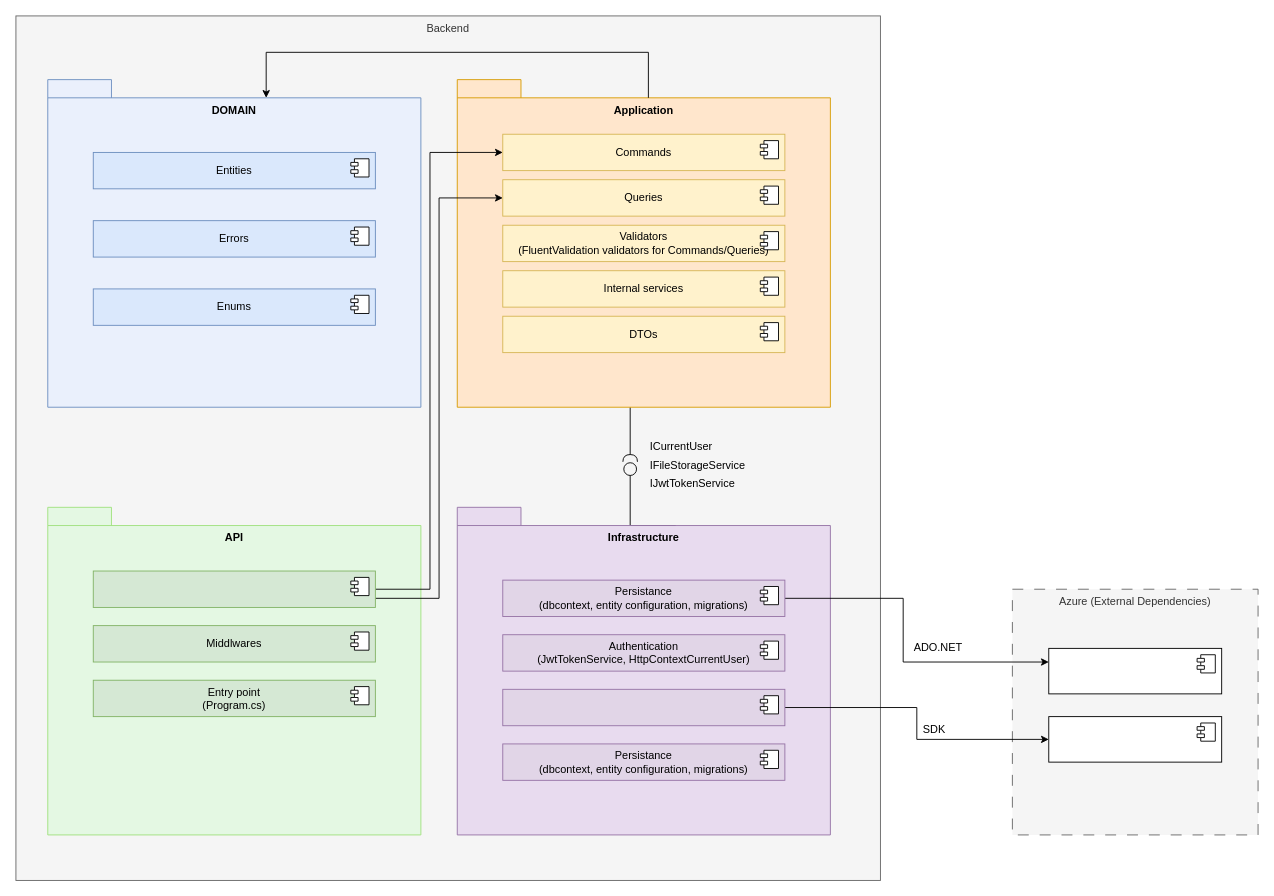
Some shapes in this 1274 by 896 pixel diagram are drawn without their labels. Each missing label, with the centre of its shape:
BLOB Storage: point 1135,739
Controllers: point 233,588
SQL Server: point 1135,670
Storage (AzureBlobStorageService): point 643,707
